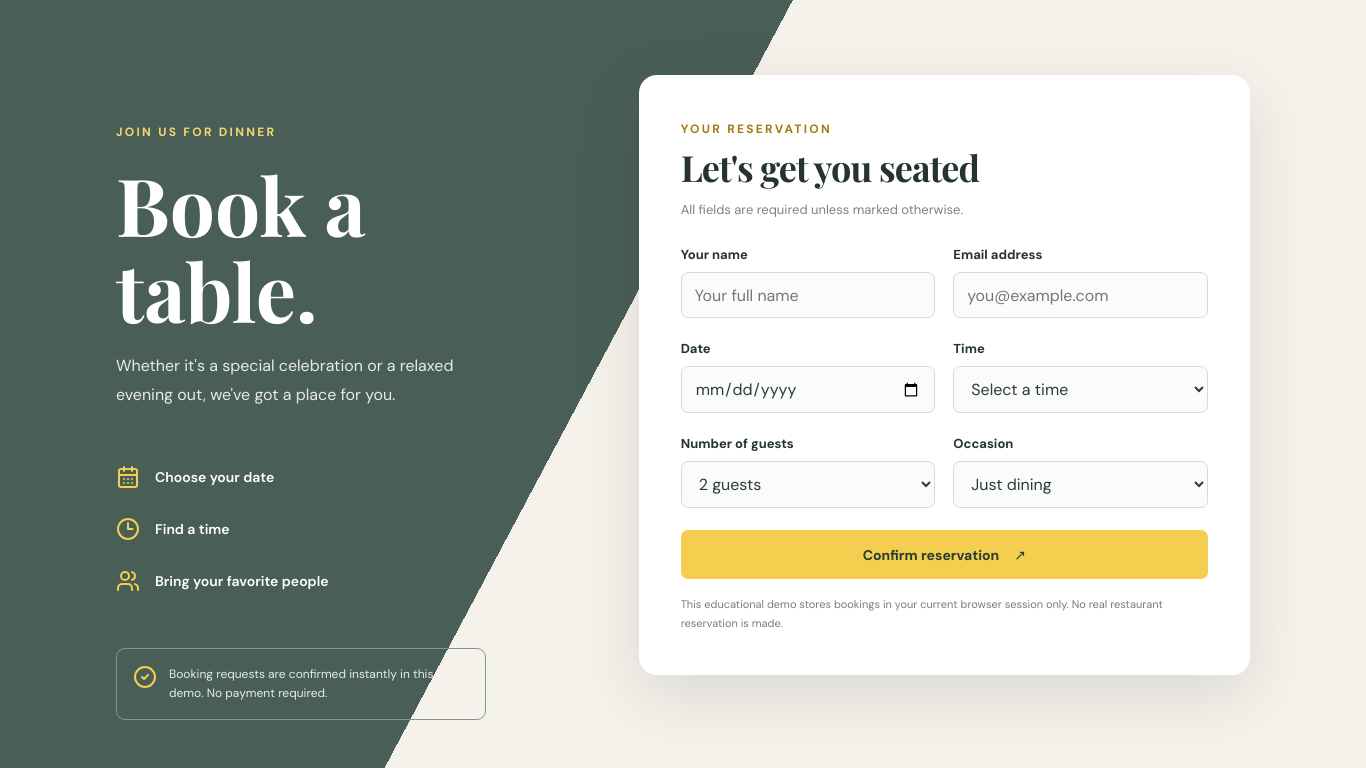
Test: reservation form › shows required validation on empty submit
Click the button "Confirm reservation ↗" at (944, 555), box [681,530,1208,579]
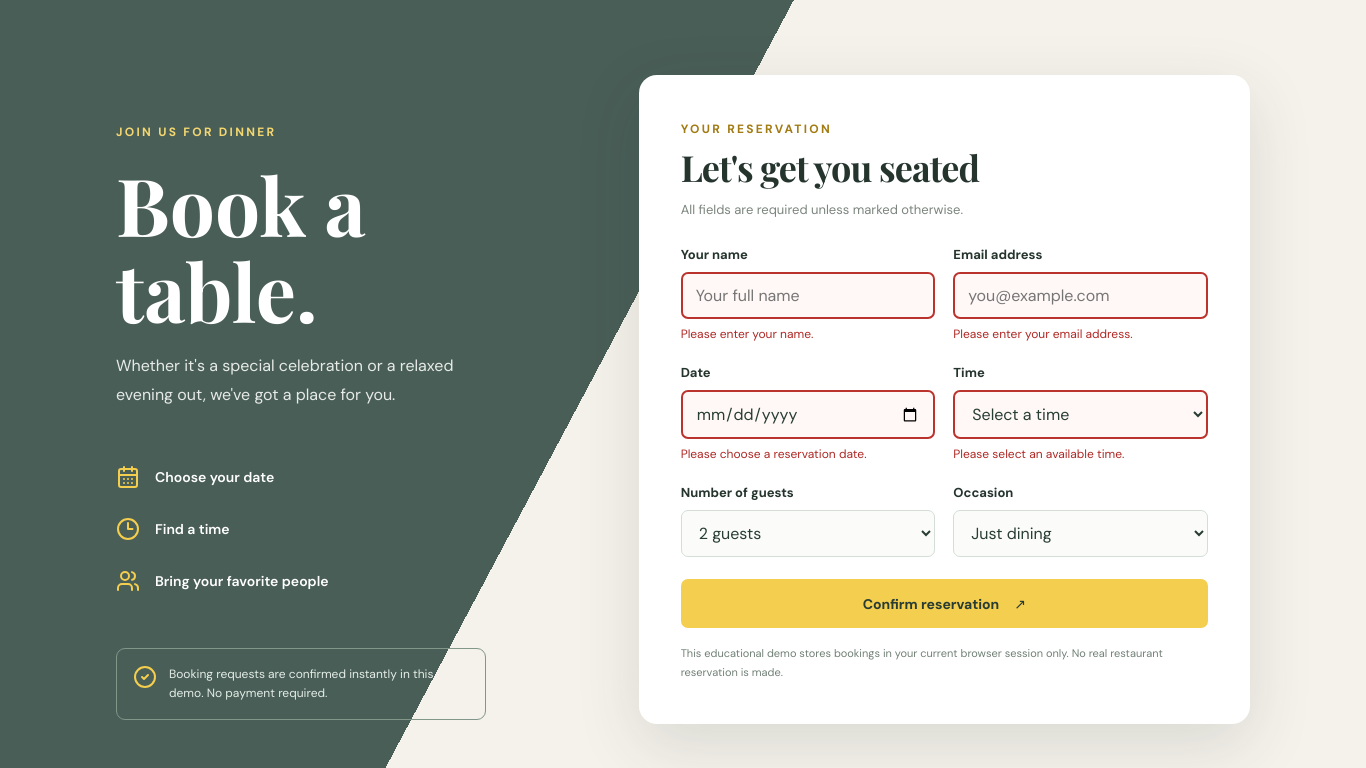
Expected: the text "Please enter your name." is shown, [681,326,813,342]
Expected: the text "Please enter your email address." is shown, [953,326,1133,342]
